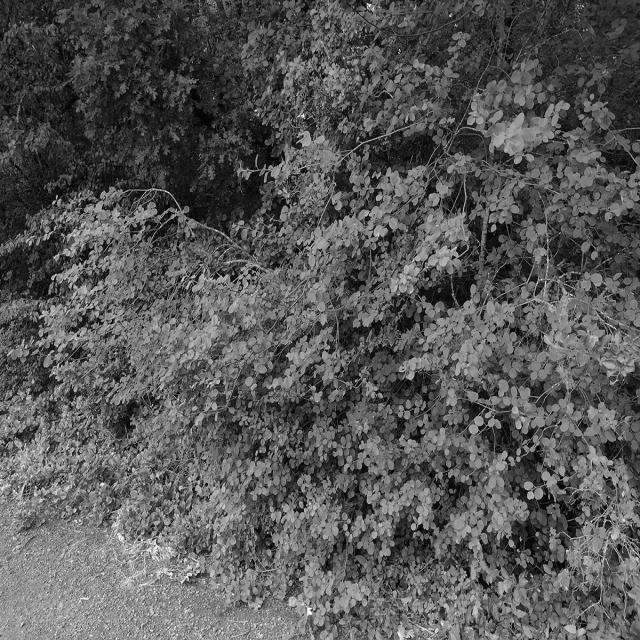Amelanchier alnifolia: (38, 181, 588, 638)
